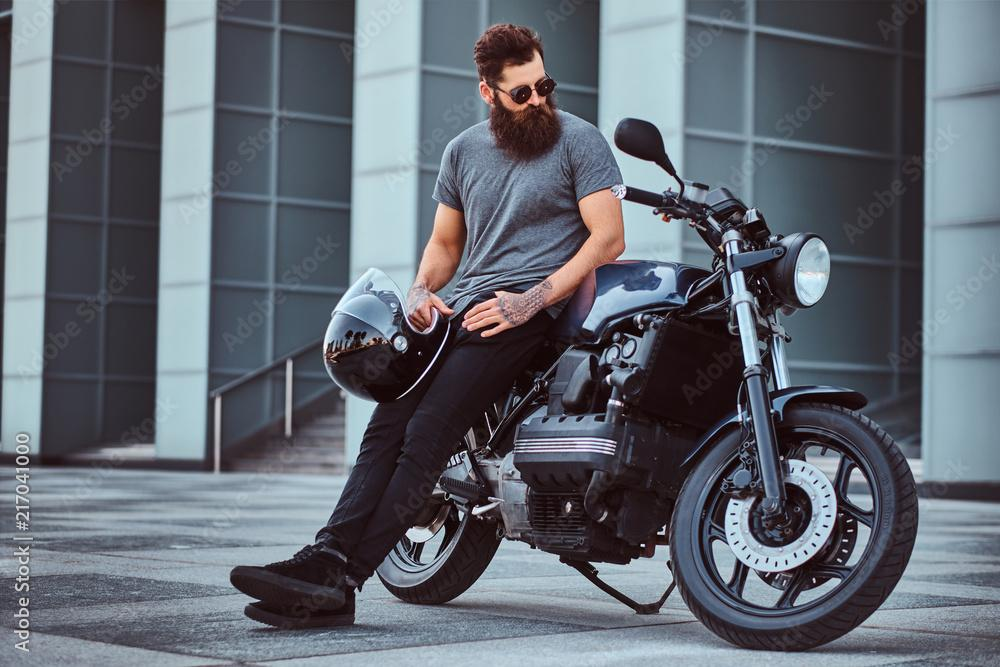helmet: (322, 266, 451, 404)
nohelmet: (473, 22, 562, 162)
